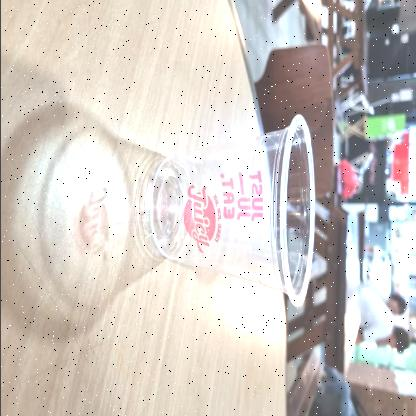Others: (138, 114, 320, 310)
